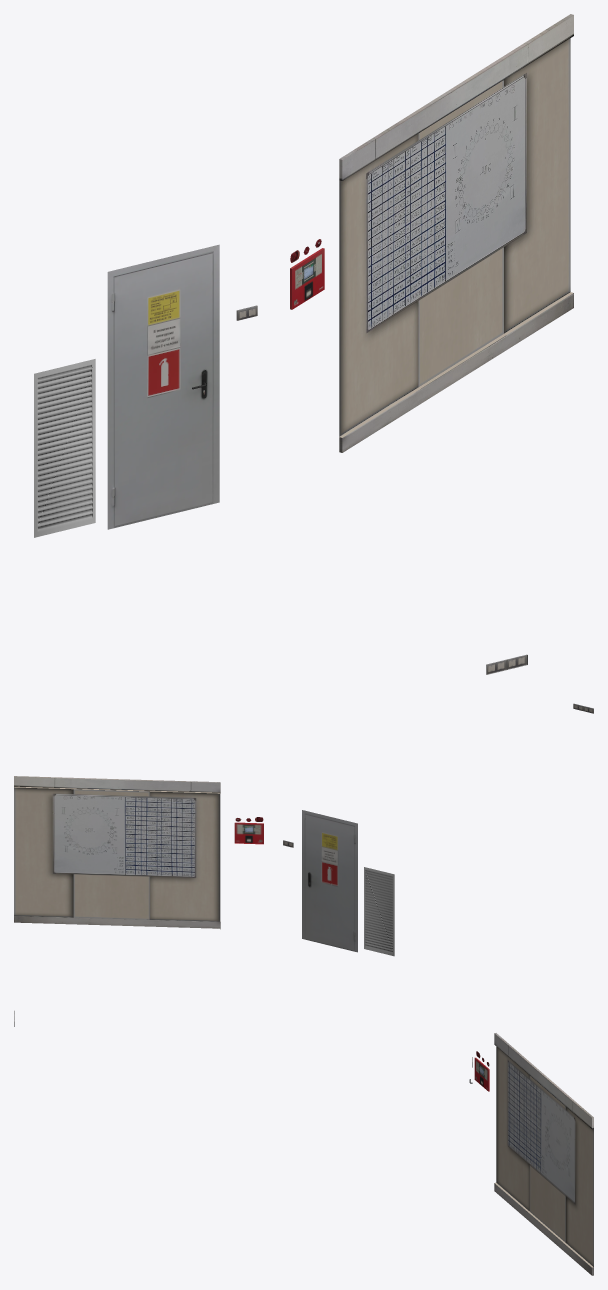
The model's file is Room_Group_000.glb.
The picture shows the model from 3 angles, top to bottom: view 1: azimuth 30°, elevation 25°; view 2: azimuth 150°, elevation 25°; view 3: azimuth 270°, elevation 25°; orthographic projection. The views are drawn at different scales.
Visible parts, largest first — view 1: Plane004, Plane005, Plane012, Plane006; view 2: Plane004, Plane005, Plane012, Plane006; view 3: Plane004.
Boxes of the visible parts, <box> form: Plane004: <box>339,14,573,452</box>; Plane005: <box>107,244,219,529</box>; Plane012: <box>34,359,95,537</box>; Plane006: <box>290,248,324,309</box>; Plane004: <box>14,776,220,929</box>; Plane005: <box>302,810,357,952</box>; Plane012: <box>364,867,394,956</box>; Plane006: <box>234,822,263,844</box>; Plane004: <box>494,1033,593,1275</box>.
Bounding box in the file's own units: 5.81 × 2.5 × 8.32.
Materials: 6 (5 with a texture image).
